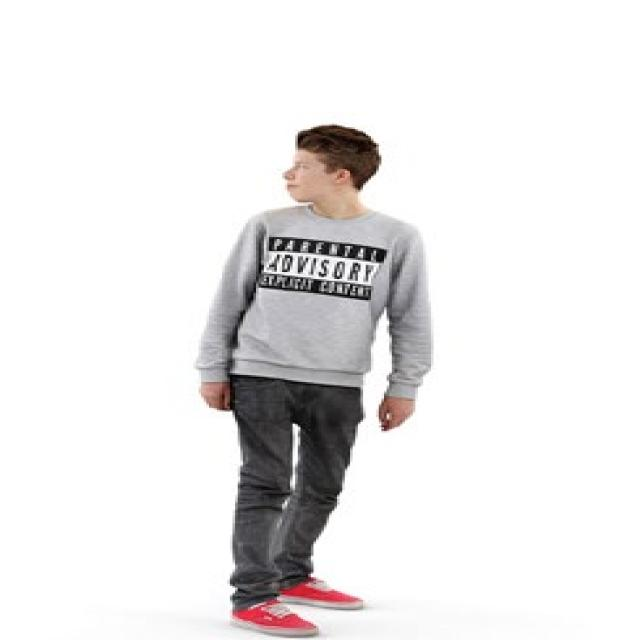standing: (190, 118, 444, 640)
